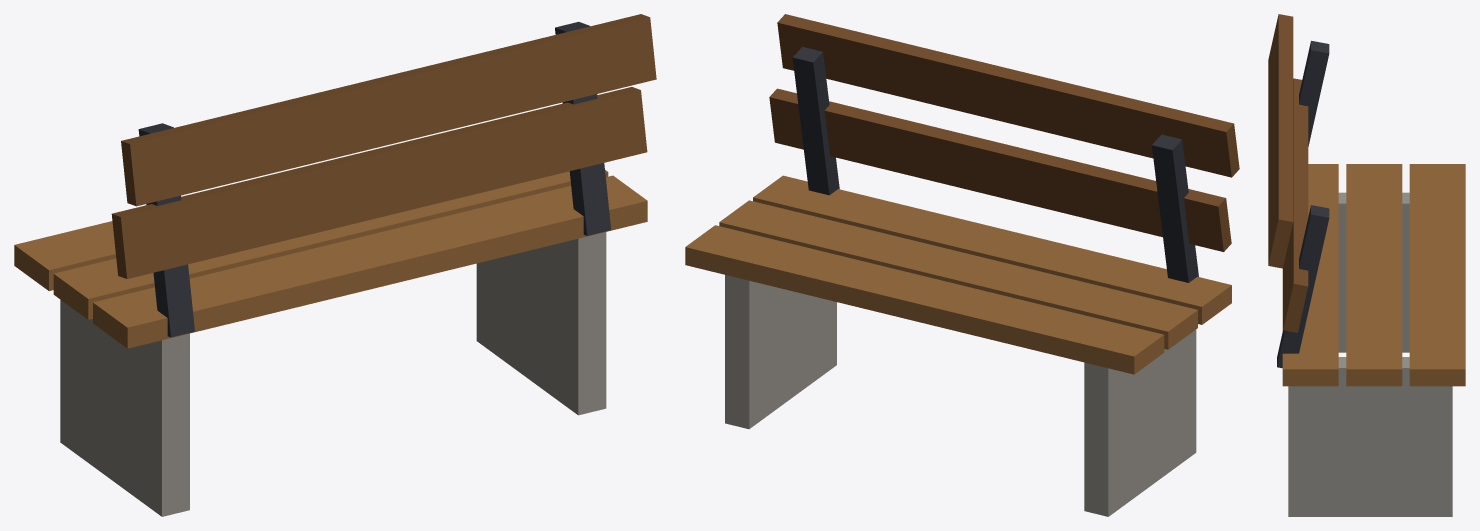
The model's file is prop_bench_02.glb.
3 renders of one model, left to right at view 1: azimuth 30°, elevation 25°; view 2: azimuth 150°, elevation 25°; view 3: azimuth 270°, elevation 25°, orthographic. The views are drawn at different scales.
Parts seen in each view (by area): view 1: prop_bench_02; view 2: prop_bench_02; view 3: prop_bench_02.
Part boxes in pixels (x1,y1,x2,y2): prop_bench_02: (14, 14, 656, 516); prop_bench_02: (685, 14, 1239, 516); prop_bench_02: (1268, 14, 1465, 516).
Size of the model in its own units: 1.3 by 0.9226 by 0.5285.
